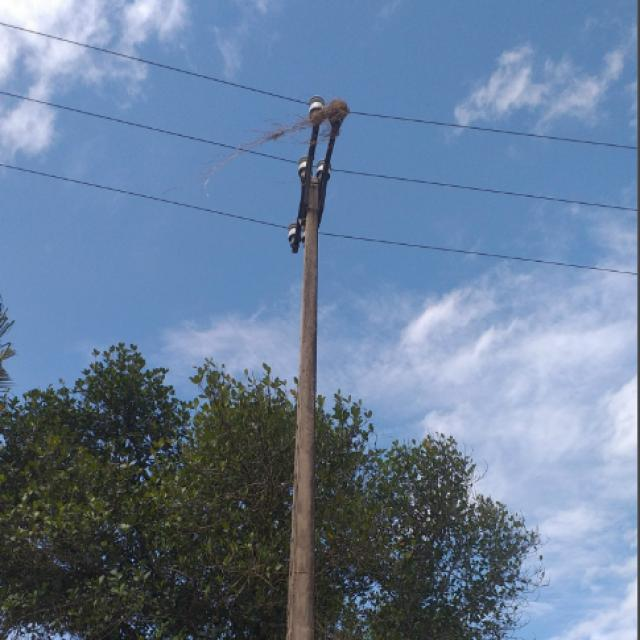植被遮挡: (201, 94, 352, 196)
